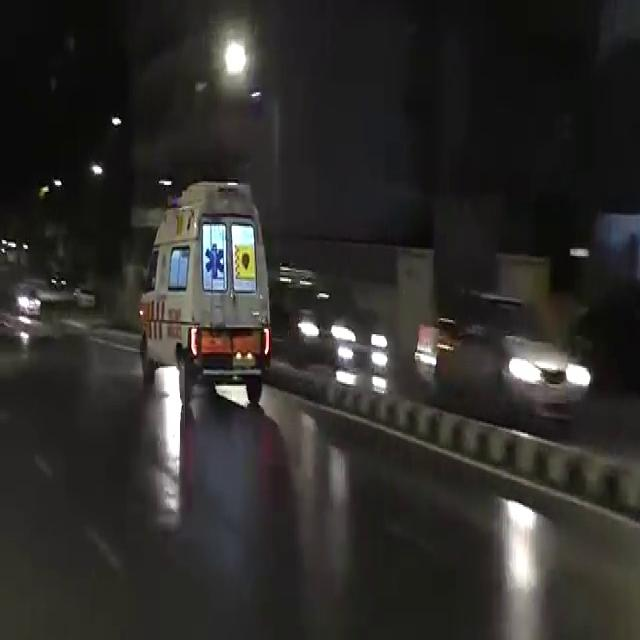ambulance: (134, 182, 282, 394)
